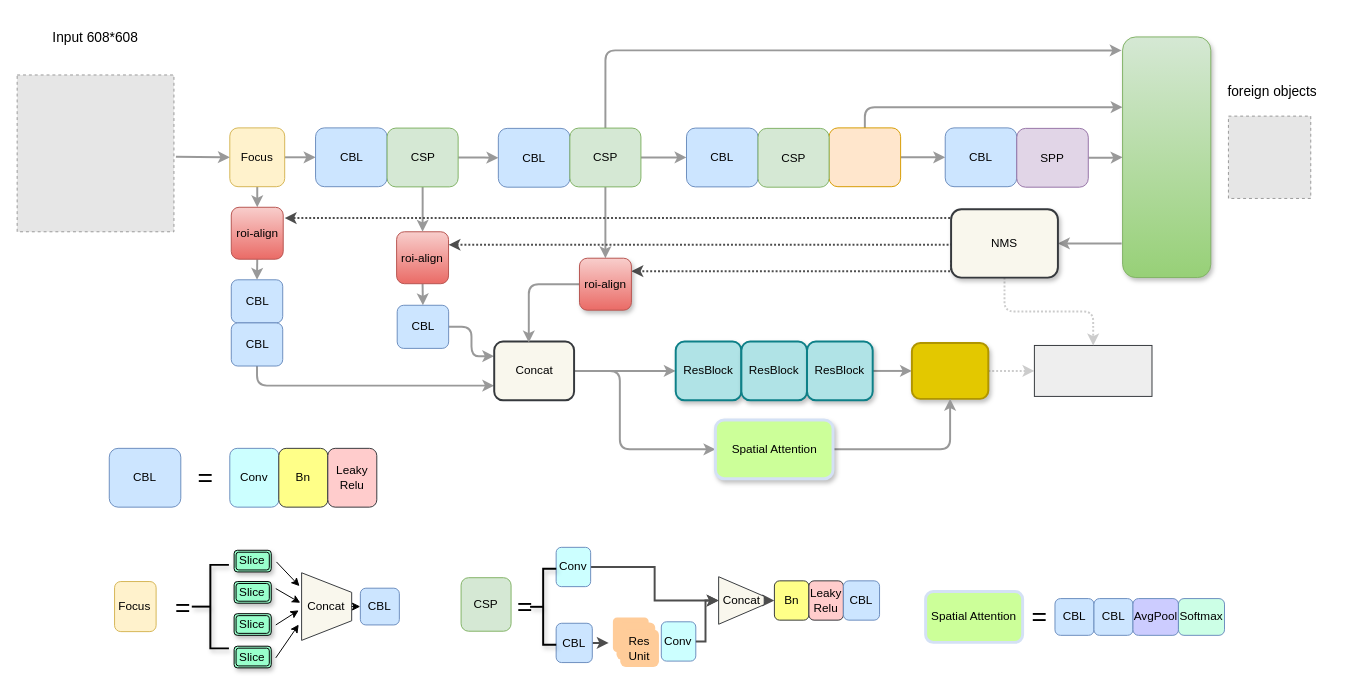
Some shapes in this 1348 by 692 pixel diagram are drawn without their labels. Grey dashed boxes stand in for pictures. Each missing label, with the centre of its shape:
"FBC" goes at pixel 950 372.
"Non_Local" goes at pixel 864 157.
"Prediction" goes at pixel 1092 370.
"YOLOV4 head" goes at pixel 1167 158.
